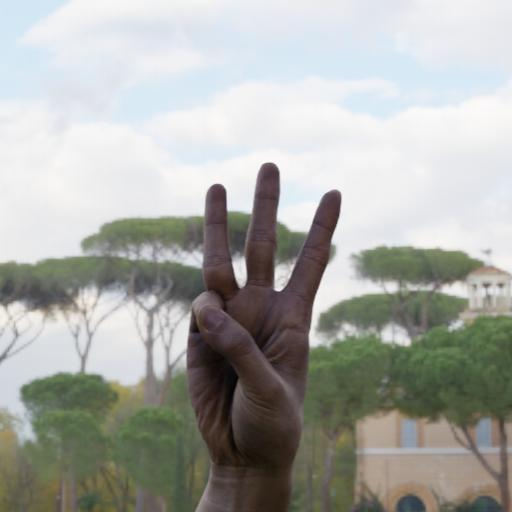W: (160, 138, 344, 488)
